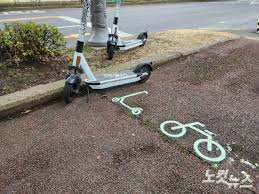kick_body: (95, 70, 136, 87)
kick_wheel: (64, 77, 81, 102), (138, 62, 153, 81), (106, 40, 117, 60), (138, 30, 147, 45)
